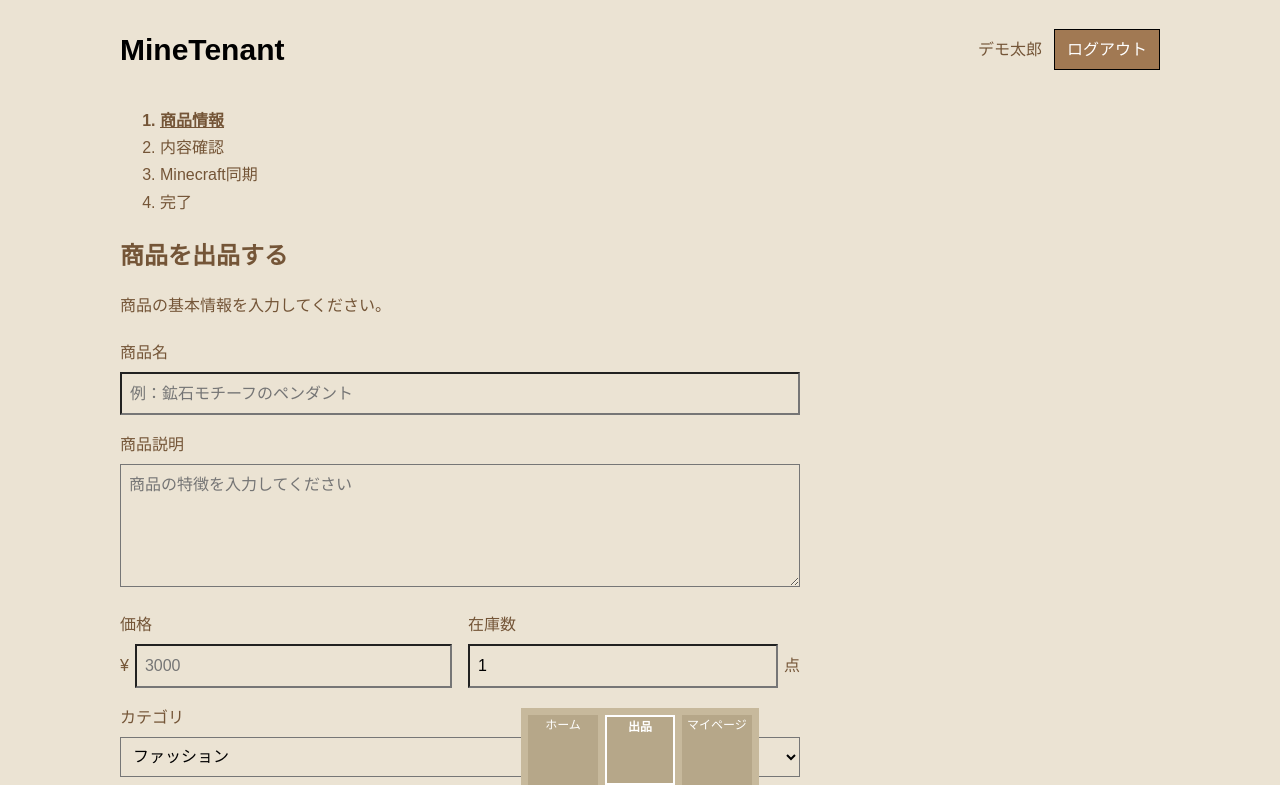
Test: MineTenant routes › ログアウトの通信失敗時はログイン状態を維持する
This screenshot has width=1280, height=785.
Click the button "ログアウト" at (1107, 50), box 1054,29 -> 1160,70
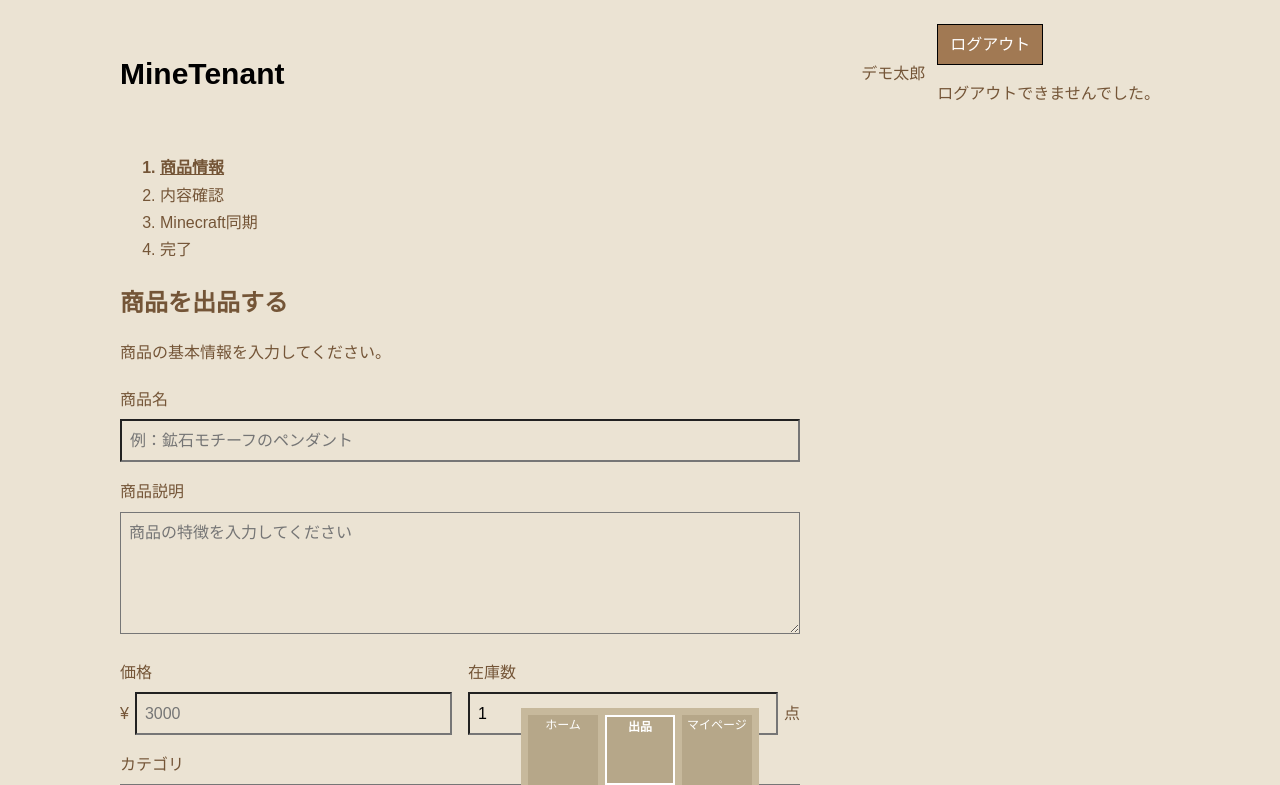
Expected: the button "ログアウト" is enabled, 937,24 -> 1043,65
Now the message reads "ログアウトできませんでした。", box 937,85 -> 1160,102
